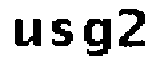2: (117, 6, 150, 51)
g: (83, 17, 114, 60)
s: (51, 15, 75, 48)
u: (12, 15, 43, 49)
